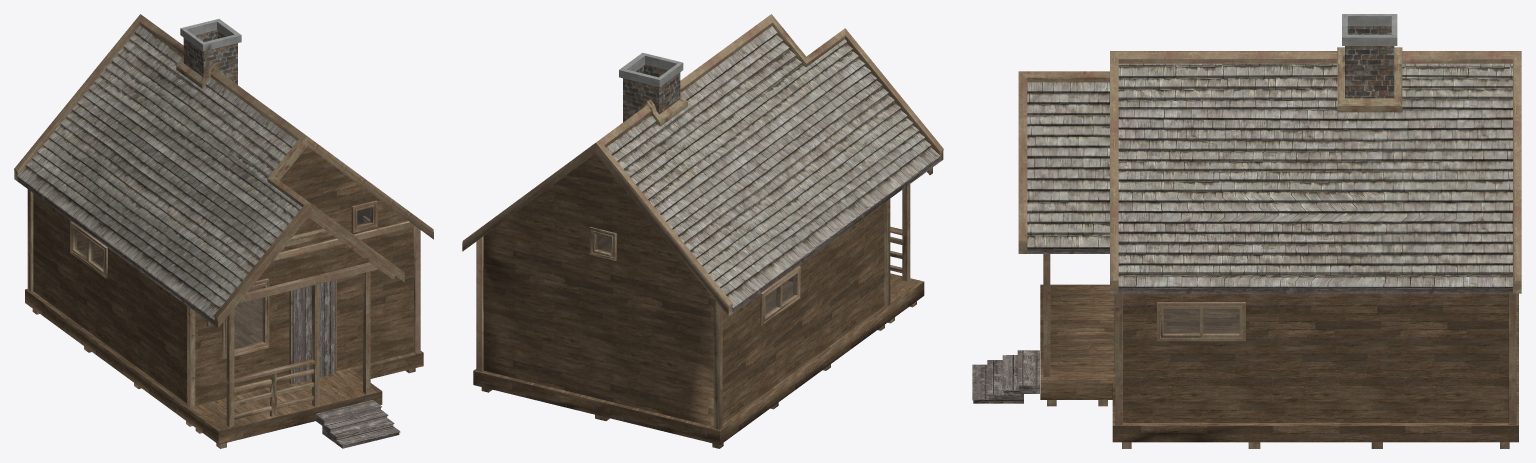
The model's file is sketchfab-world.glb.
The picture shows the model from 3 angles, left to right: view 1: azimuth 30°, elevation 25°; view 2: azimuth 150°, elevation 25°; view 3: azimuth 270°, elevation 25°; orthographic projection. The views are drawn at different scales.
Parts seen in each view (by area): view 1: Sketchfab_model.003; view 2: Sketchfab_model.003; view 3: Sketchfab_model.003.
Boxes of the visible parts, box(x1,y1,x2,y2) form: Sketchfab_model.003: box(14, 14, 433, 448); Sketchfab_model.003: box(462, 14, 943, 448); Sketchfab_model.003: box(972, 14, 1521, 448).
Size of the model in its own units: 20.1 by 22 by 30.34.
Materials: 7 (6 with a texture image).
